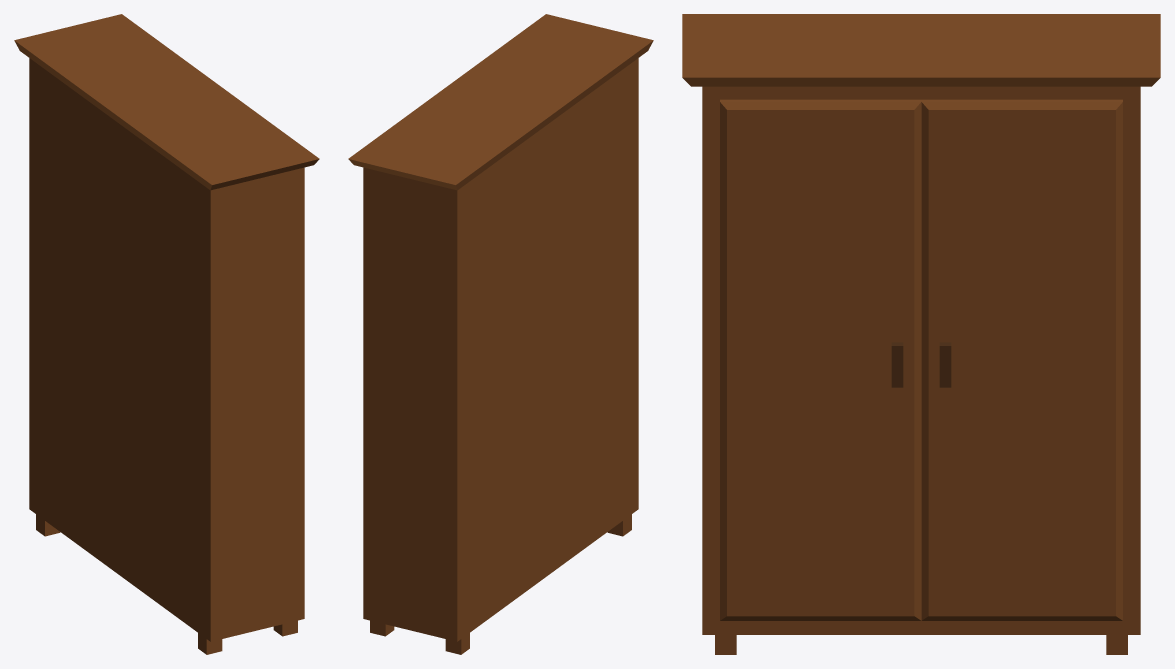
The model's file is sm_Wardrobe.fbx.
3 renders of one model, left to right at view 1: azimuth 30°, elevation 25°; view 2: azimuth 150°, elevation 25°; view 3: azimuth 270°, elevation 25°, orthographic. The views are drawn at different scales.
Parts seen in each view (by area): view 1: Cube.011; view 2: Cube.011; view 3: Cube.011.
Boxes of the visible parts, x1=… form: Cube.011: x1=14, y1=14, x2=319, y2=654; Cube.011: x1=348, y1=14, x2=653, y2=654; Cube.011: x1=682, y1=14, x2=1160, y2=654.
Size of the model in its own units: 52.1 by 211 by 157.
